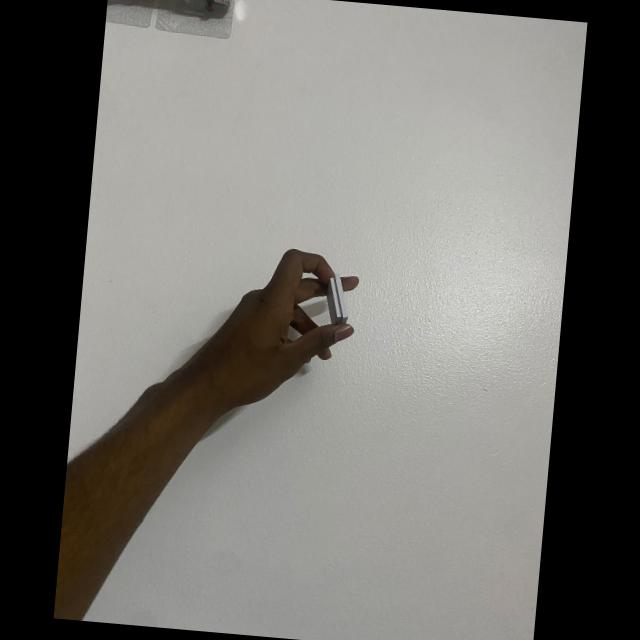RASPBERY PI CAM ENCLOSURE: (324, 272, 351, 325)
